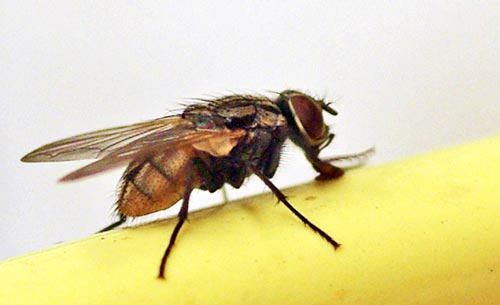house fly: (16, 82, 379, 278)
